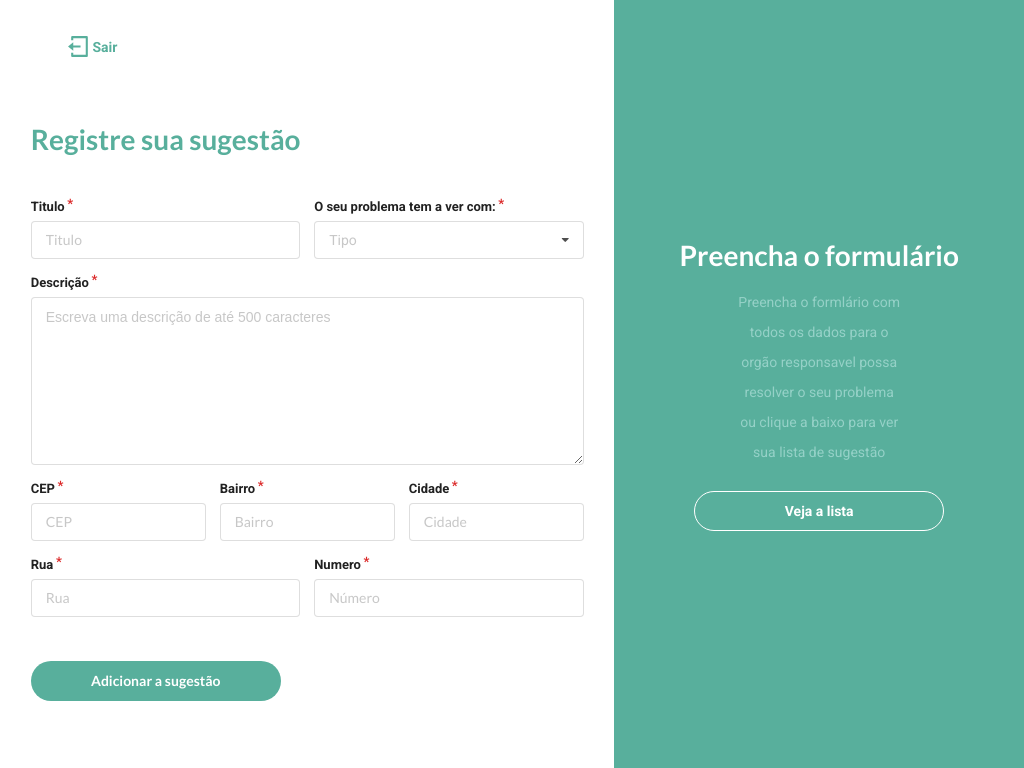
Test case: tests on the Form component › Checking if the CEP input is accepting letters
Step 1. Type "abc" into the field with test id "inputCEP" → (118, 522), box [31,502,206,540]
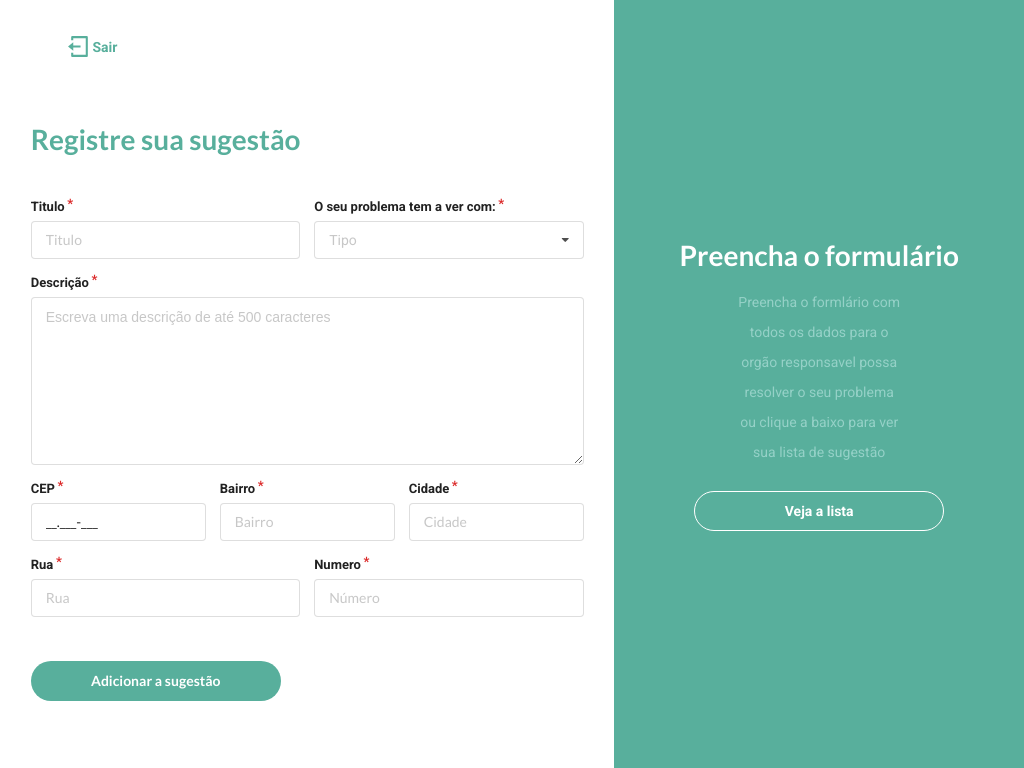
Expected: the field with test id "inputCEP" holds "__.___-___", [31,502,206,540]
